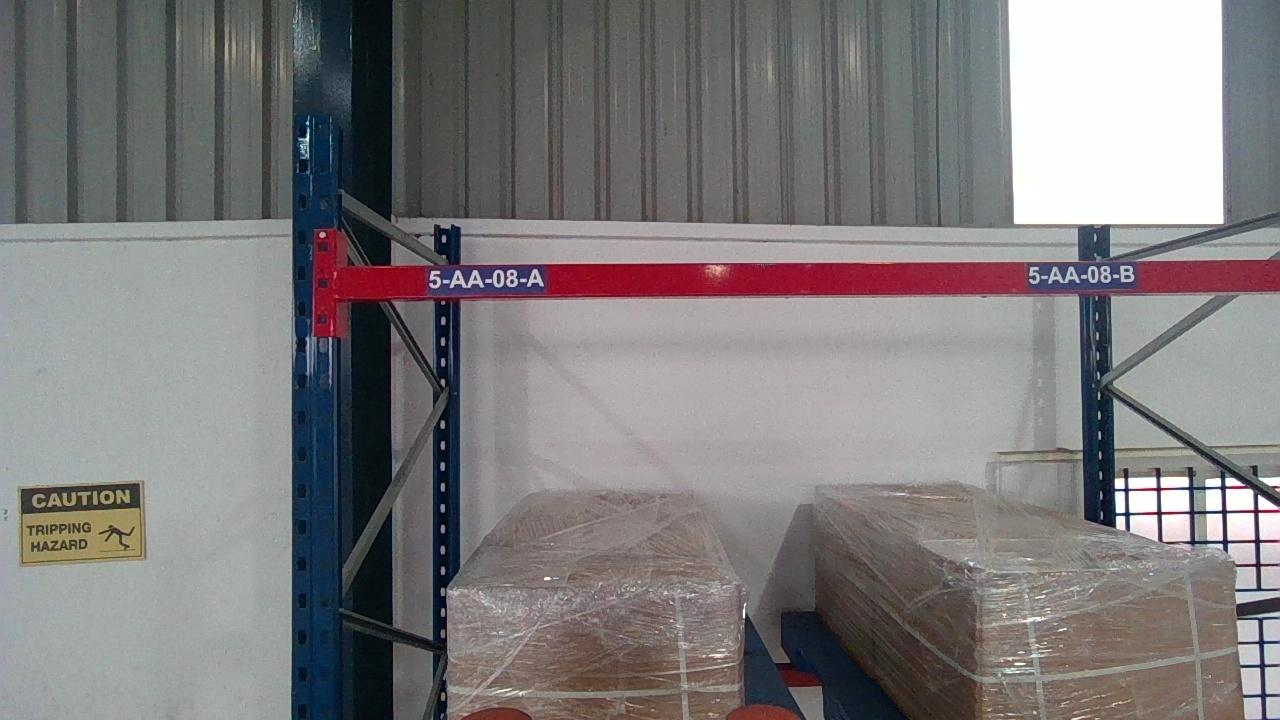h_rack: (338, 265, 1280, 293)
